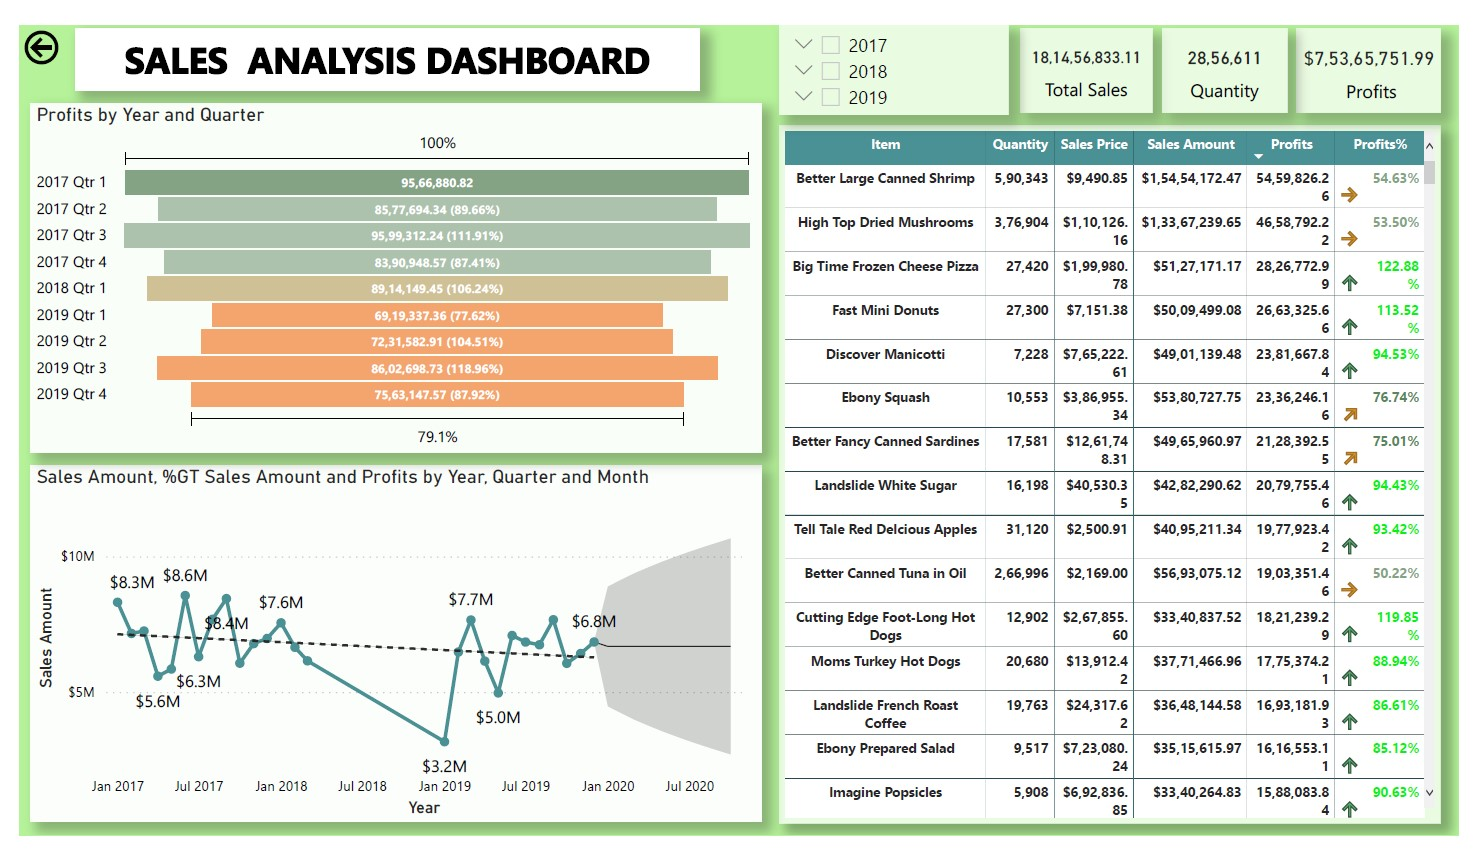

The page's visual inventory and layout, read from the dashboard file:
{"tool":"powerbi","page":{"name":"Sales & Profit Info ","canvas":[1280,720],"ordinal":0},"visuals":[{"type":"actionButton","box":[0,0,100,40],"z":0},{"type":"pivotTable","fields":{"Values":["Imp Measures.Quantity","Sum(Sales_Details.Sales Price)","Imp Measures.Total Sales","Imp Measures.Profits","Imp Measures.Profits%"],"Rows":["Sales_Details.Item"]},"box":[676.6,89.2,587.3,619.9],"z":1000},{"type":"textbox","box":[49.4,3.6,554.8,55.5],"z":2000},{"type":"card","fields":{"Values":["Imp Measures.Total Sales"]},"box":[890.1,3.6,117,74.8],"z":3000},{"type":"card","fields":{"Values":["Sum(Sales_Details.Sales Margin Amount)"]},"box":[1136.1,3.6,127.8,74.8],"z":4000},{"type":"card","fields":{"Values":["Imp Measures.Quantity"]},"box":[1015.5,3.6,111,74.8],"z":5000},{"type":"lineChart","fields":{"Category":["Date.Date.Variation.Date Hierarchy.Year","Date.Date.Variation.Date Hierarchy.Quarter","Date.Date.Variation.Date Hierarchy.Month"],"Y":["Imp Measures.Sales"]},"box":[10.9,392,648.8,317.2],"z":6000},{"type":"funnel","fields":{"Category":["Date.Date.Variation.Date Hierarchy.Year","Date.Date.Variation.Date Hierarchy.Quarter","Date.Date.Variation.Date Hierarchy.Month"],"Y":["Imp Measures.Profits"]},"box":[10.9,69.9,648.8,309.9],"z":7000},{"type":"slicer","fields":{"Values":["Date.Date.Variation.Date Hierarchy.Year","Date.Date.Variation.Date Hierarchy.Quarter"]},"box":[676.6,0,202.6,79.6],"z":8000}]}

Visuals, with their boxes in screenshot pixels (x1, y1, x2, y2), scaled from the page's 1280x720 canvas onto the 1474x853 screenshot:
actionButton: 0:0:115:47
pivotTable - Imp Measures.Quantity x Sum(Sales_Details.Sales Price): 779:106:1455:840
textbox: 57:4:696:70
card - Imp Measures.Total Sales: 1025:4:1160:93
card - Sum(Sales_Details.Sales Margin Amount): 1308:4:1455:93
card - Imp Measures.Quantity: 1169:4:1297:93
lineChart - Date.Date.Variation.Date Hierarchy.Year x Date.Date.Variation.Date Hierarchy.Quarter: 13:464:760:840
funnel - Date.Date.Variation.Date Hierarchy.Year x Date.Date.Variation.Date Hierarchy.Quarter: 13:83:760:450
slicer - Date.Date.Variation.Date Hierarchy.Year x Date.Date.Variation.Date Hierarchy.Quarter: 779:0:1012:94
